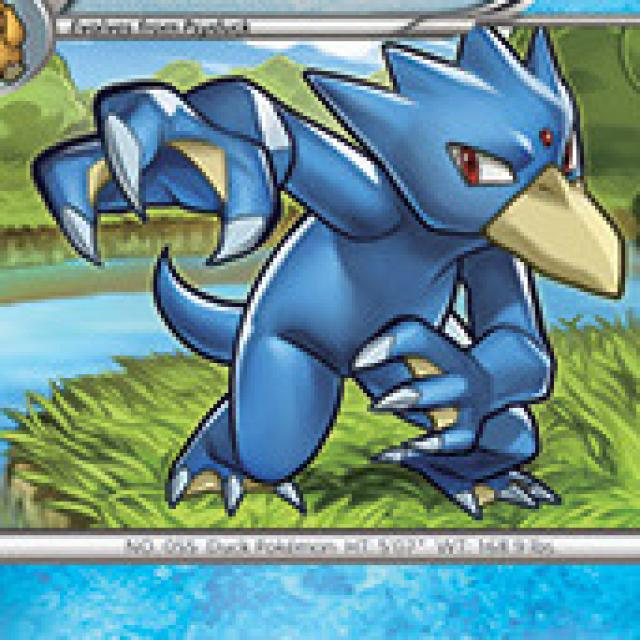Golduck: (86, 41, 624, 503)
